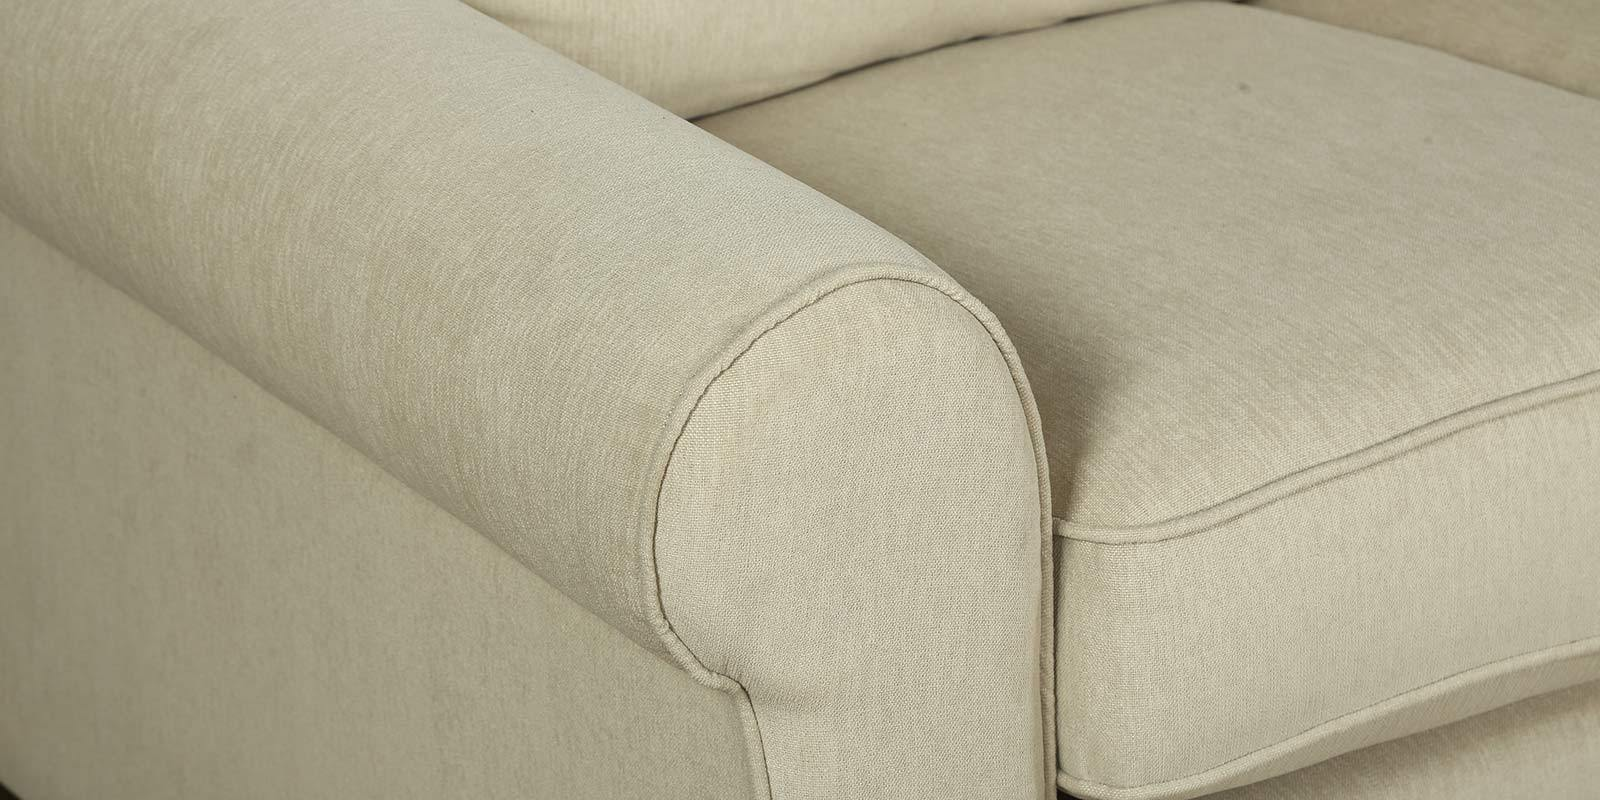Madeira Three Seater Sofa in Beige Colour by CasaCraft: (1, 1, 1600, 797)
